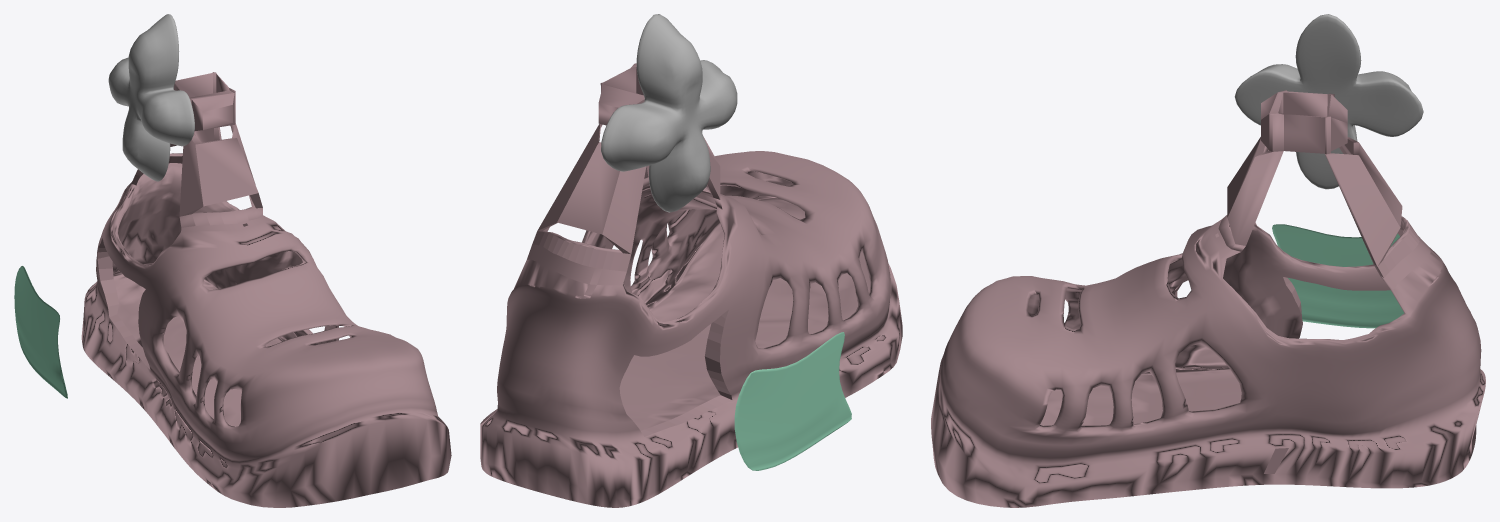
Rendered from cart.fbx.
3 renders of one model, left to right at view 1: azimuth 30°, elevation 25°; view 2: azimuth 150°, elevation 25°; view 3: azimuth 270°, elevation 25°, orthographic. The views are drawn at different scales.
Parts seen in each view (by area): view 1: polySurface1, pCube78, polySurface2; view 2: polySurface1, pCube78, polySurface2; view 3: polySurface1, pCube78, polySurface2.
Boxes of the visible parts, x1,y1,x2,y2 form: polySurface1: (81,72,451,507); pCube78: (108,14,194,181); polySurface2: (14,266,67,398); polySurface1: (480,63,902,507); pCube78: (601,14,737,212); polySurface2: (734,332,851,470); polySurface1: (931,90,1485,507); pCube78: (1234,14,1423,189); polySurface2: (1272,224,1404,328).
Bounding box in the file's own units: 15.4 × 20.85 × 24.72.
